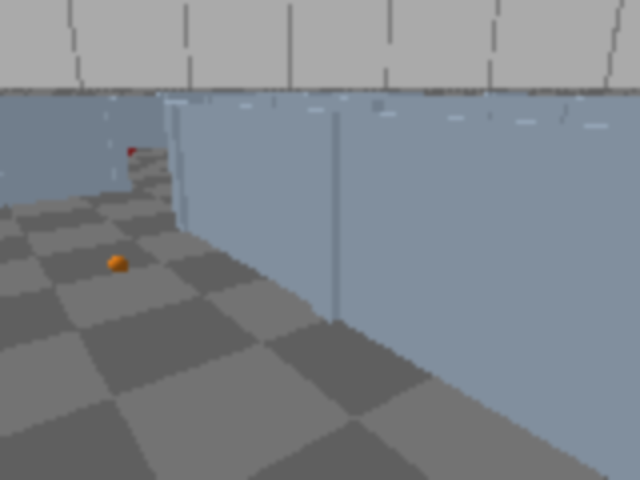puck: (105, 254, 131, 277)
